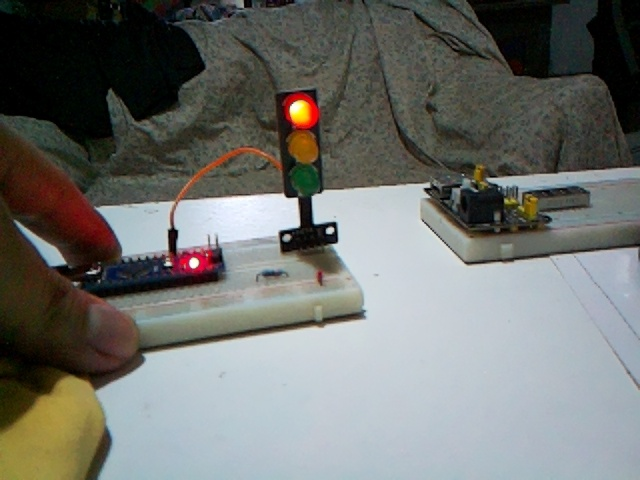traffic_light_red: (276, 89, 322, 199)
